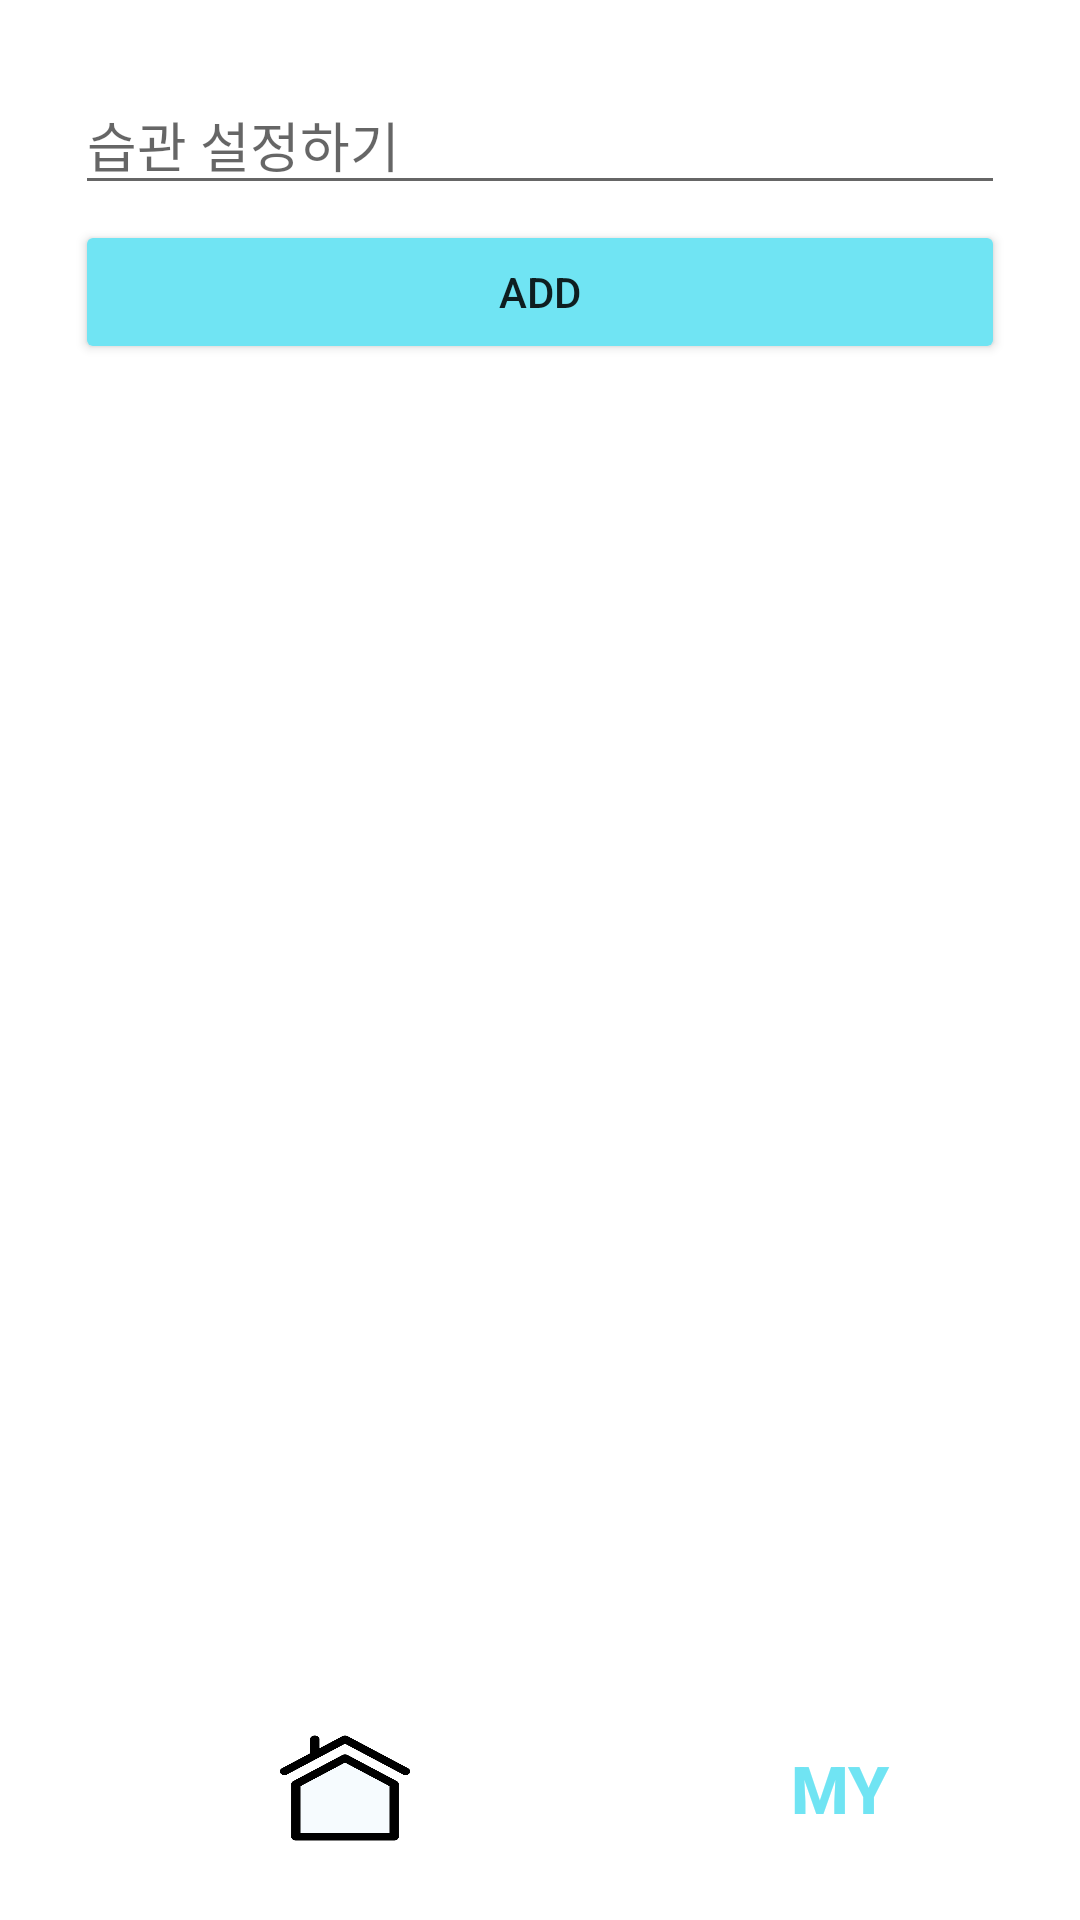

Where to tap for icons on this 1080×1920 app screen, as (x,y):
홈으로 가기: (345,1788)
